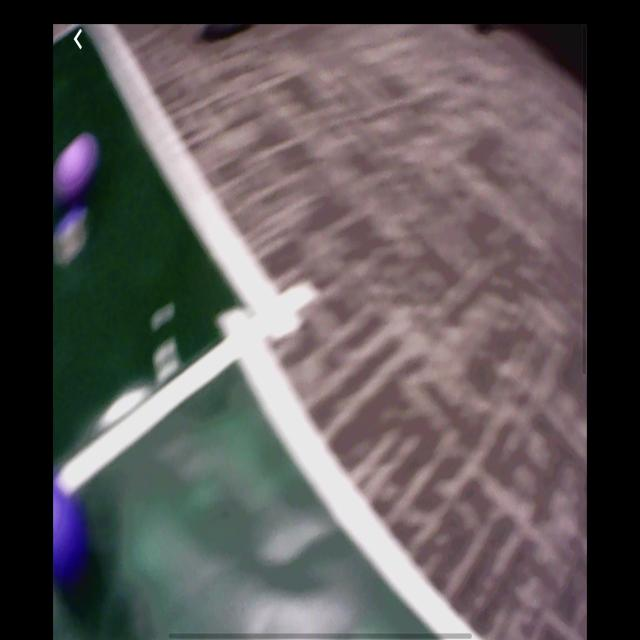ball: (55, 489, 90, 589), (57, 143, 90, 200)
